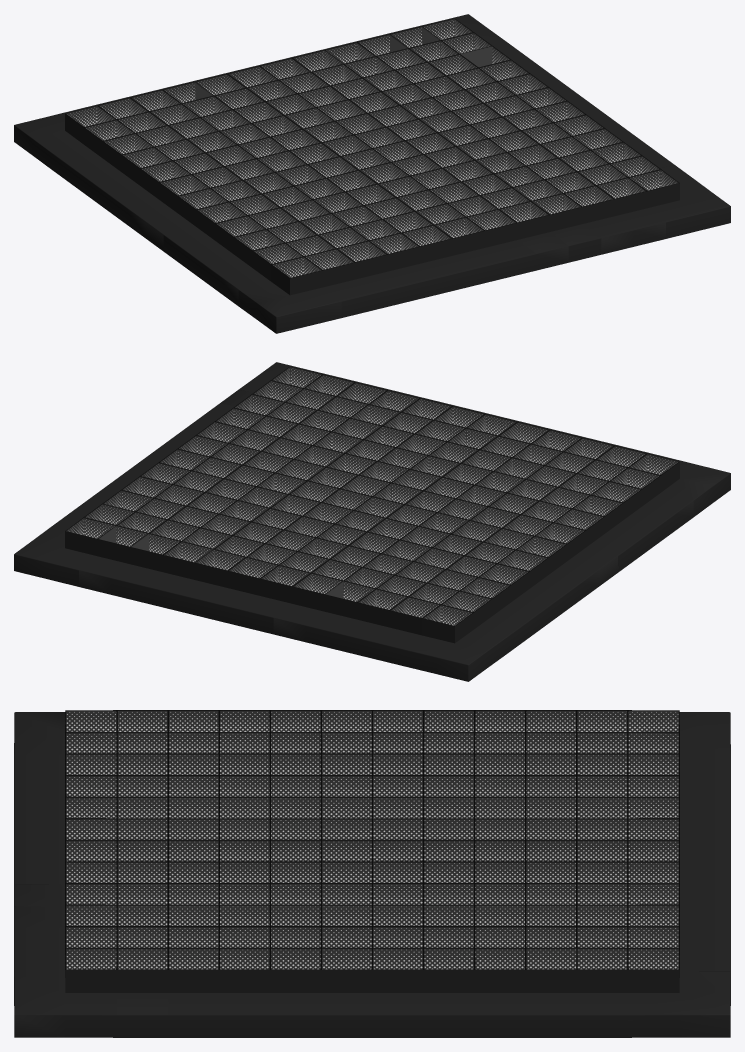
File: piste.glb
3 views of the same model, one above another, from view 1: azimuth 30°, elevation 25°; view 2: azimuth 150°, elevation 25°; view 3: azimuth 270°, elevation 25° (orthographic). The views are drawn at different scales.
Visible parts, largest first — view 1: Object_6, Object_7, Object_5; view 2: Object_6, Object_7, Object_5; view 3: Object_6, Object_7, Object_5.
Part boxes in pixels (left/top/right/bottom): Object_6: left=65, top=18, right=679, bottom=278; Object_7: left=67, top=19, right=677, bottom=277; Object_5: left=14, top=14, right=730, bottom=333; Object_6: left=65, top=366, right=679, bottom=626; Object_7: left=67, top=367, right=677, bottom=625; Object_5: left=14, top=362, right=730, bottom=681; Object_6: left=65, top=710, right=679, bottom=969; Object_7: left=67, top=711, right=677, bottom=968; Object_5: left=14, top=710, right=730, bottom=1037.
Size of what is drawn, in the model's own units: 7.02 by 0.4999 by 7.02.
3 materials, 1 textured.
